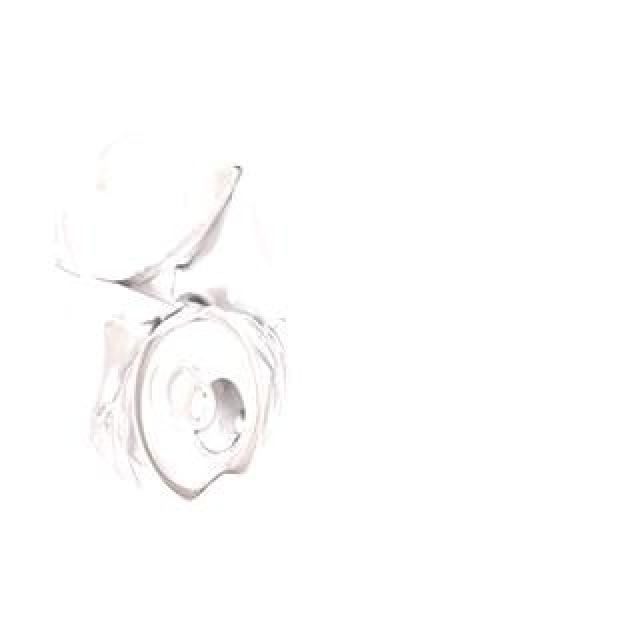Can: (46, 113, 332, 507)
